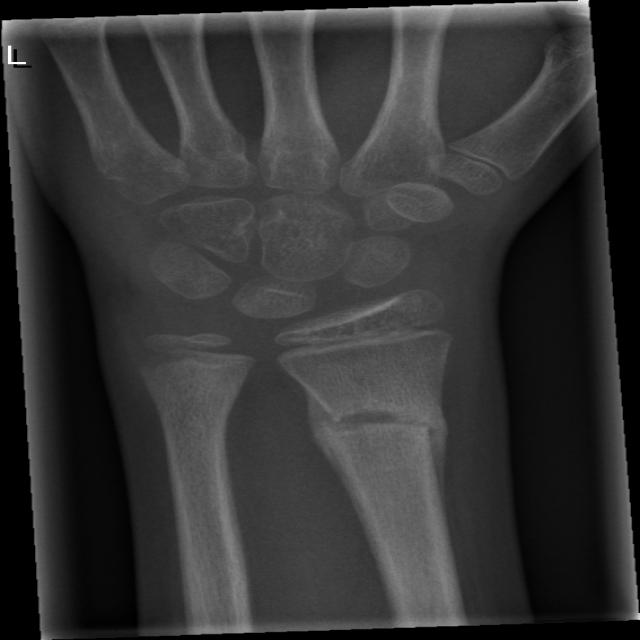radius fracture: (280, 373, 488, 515)
